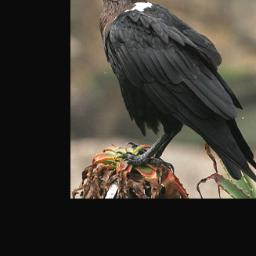Crow: (82, 0, 256, 187)
